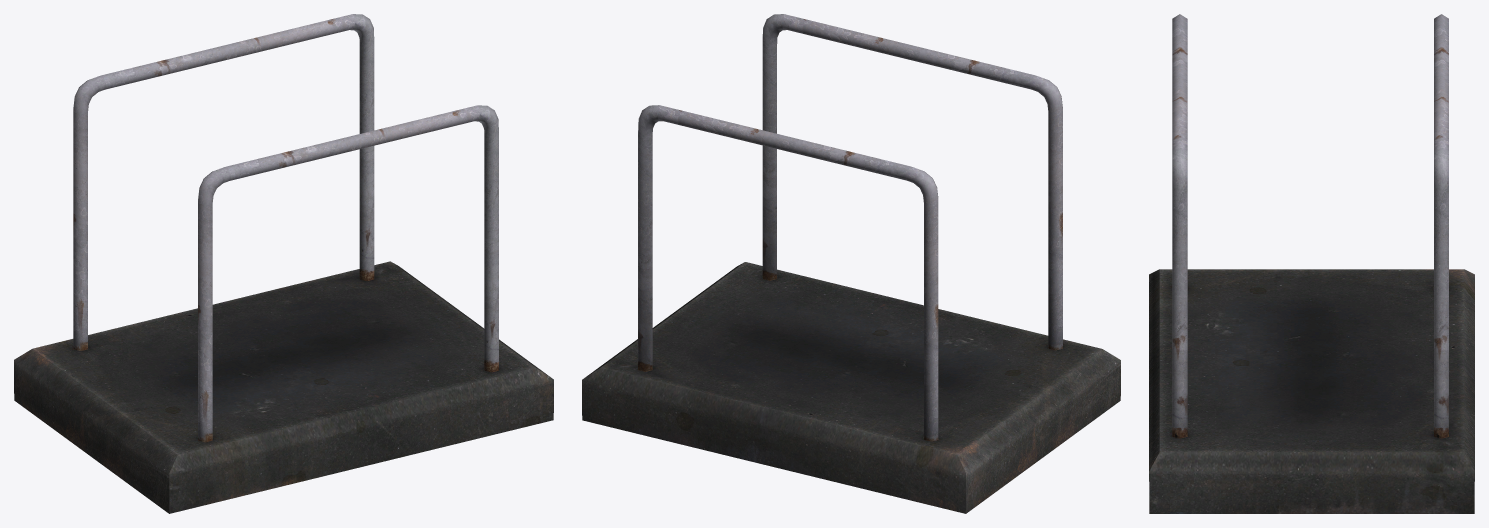
File: newton_cradle.DAE
3 renders of one model, left to right at view 1: azimuth 30°, elevation 25°; view 2: azimuth 150°, elevation 25°; view 3: azimuth 270°, elevation 25°, orthographic. The views are drawn at different scales.
Visible parts, largest first — view 1: newton_cradle; view 2: newton_cradle; view 3: newton_cradle.
Part boxes in pixels (left/top/right/bottom): newton_cradle: left=14, top=14, right=553, bottom=513; newton_cradle: left=582, top=14, right=1120, bottom=513; newton_cradle: left=1149, top=14, right=1474, bottom=513.
Size of the model in its own units: 0.2609 by 0.2068 by 0.1823.
